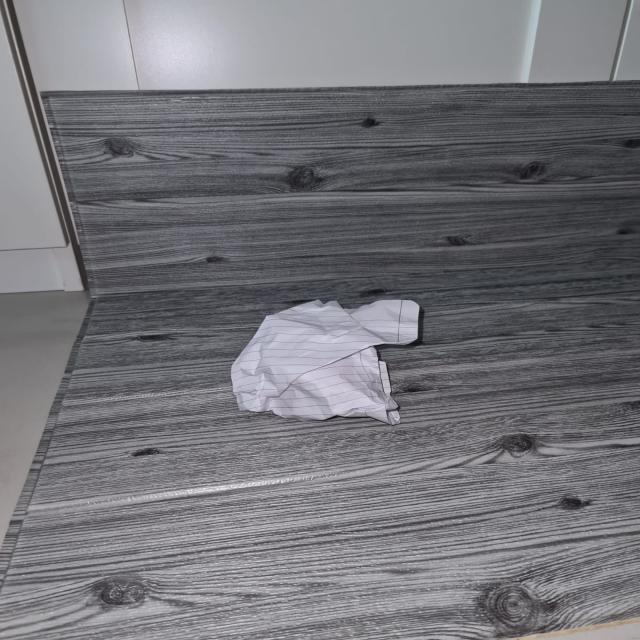Paper: (229, 299, 424, 417)
